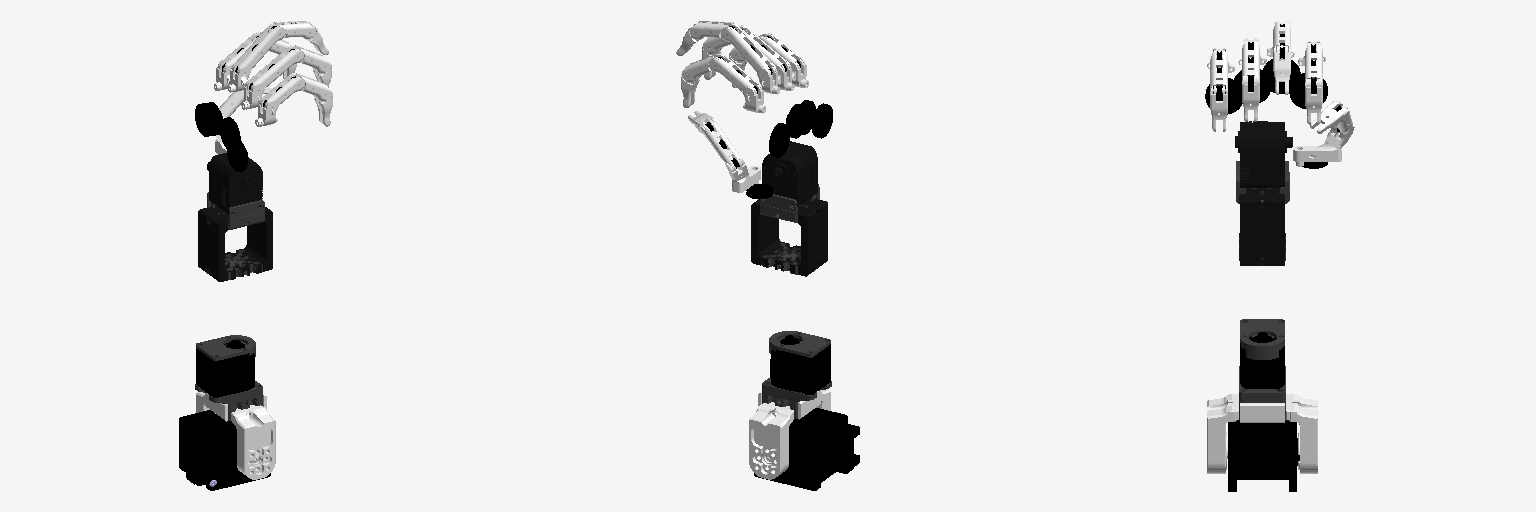
--- Render facts (derived) ---
3 views of the same robot in one strip: view 1: azimuth 30°, elevation 25°; view 2: azimuth 150°, elevation 25°; view 3: azimuth 270°, elevation 25° (orthographic).
Robot: hand_v3_model — 29 links, 28 joints (22 revolute, 6 continuous); root link base_link; default pose: all joints at 0.
Links seen in each view (by area): view 1: arm_link1, arm_link2, base_link, middle_link1, ring_link1, little_link1, little_pulley_link, middle_pulley_link, middle_link2; view 2: arm_link1, arm_link2, base_link, middle_link1, index_link1, thumb_link1, thumb_link0, middle_link2, middle_pulley_link, little_pulley_link, index_pulley_link; view 3: arm_link1, arm_link2, base_link, thumb_link0, middle_link3, ring_link2, index_link2, little_link2, index_link3, ring_link3, little_link3, thumb_link2 (+2 smaller).
Link boxes in pixels (box(x1,y1,x2,y2)): arm_link1: box(195, 335, 275, 479); arm_link2: box(198, 153, 272, 281); base_link: box(179, 410, 270, 490); middle_link1: box(233, 22, 285, 73); ring_link1: box(247, 45, 303, 91); little_link1: box(260, 73, 304, 108); little_pulley_link: box(227, 138, 247, 171); middle_pulley_link: box(202, 102, 222, 135); middle_link2: box(268, 21, 315, 40); arm_link1: box(749, 331, 831, 479); arm_link2: box(751, 141, 827, 276); base_link: box(754, 408, 859, 490); middle_link1: box(721, 22, 774, 75); index_link1: box(709, 53, 760, 94); thumb_link1: box(699, 117, 742, 170); thumb_link0: box(725, 155, 760, 192); middle_link2: box(690, 21, 738, 39); middle_pulley_link: box(786, 104, 807, 138); little_pulley_link: box(812, 103, 832, 138); index_pulley_link: box(769, 123, 789, 157); arm_link1: box(1207, 319, 1317, 473); arm_link2: box(1235, 121, 1292, 265); base_link: box(1228, 420, 1299, 491); thumb_link0: box(1293, 126, 1354, 166); middle_link3: box(1273, 46, 1290, 94); ring_link2: box(1242, 40, 1259, 84); index_link2: box(1305, 43, 1322, 86); little_link2: box(1210, 50, 1227, 94); index_link3: box(1305, 77, 1322, 124); ring_link3: box(1242, 75, 1259, 121); little_link3: box(1210, 85, 1227, 131); thumb_link2: box(1310, 101, 1346, 133).
Size in the robot's own frame: 0.114 by 0.0851 by 0.3066 metres.
Meshes: 29 distinct files referenced, 28 mesh visuals loaded (28 Collada DAE); not drawn: 1 (reference not matched to a file when rendering).

The robot description file, URDF, robot "hand_v3_model":
<?xml version='1.0' encoding='UTF-8'?>
<robot name="hand_v3_model">
  <link name="base_link">
    <inertial>
      <origin xyz="-0.0109878002350335 -0.000467352545920593 0.0159581444820132" rpy="0.0 -0.0 0.0"/>
      <mass value="0.154434473579629"/>
      <inertia ixx="3.43058191646254e-05" ixy="2.21370757914087e-06" ixz="-1.33269609834339e-08" iyy="4.08483596238249e-05" iyz="-1.97753608771289e-08" izz="4.86767167868751e-05"/>
    </inertial>
    <visual>
      <geometry>
        <mesh filename="package://hand_v3_model/meshes/base_link.dae"/>
      </geometry>
      <material name=""/>
      <origin xyz="0.0 0.0 0.0" rpy="0.0 -0.0 0.0"/>
    </visual>
    <collision>
      <geometry>
        <mesh filename="package://hand_v3_model/meshes/base_link.dae"/>
      </geometry>
      <origin xyz="0.0 0.0 0.0" rpy="0.0 -0.0 0.0"/>
    </collision>
  </link>
  <link name="arm_link1">
    <inertial>
      <origin xyz="-0.00316960988198456 -0.000189219150271503 0.0177246887158583" rpy="0.0 -0.0 0.0"/>
      <mass value="0.056842607909979"/>
      <inertia ixx="5.82383938758488e-06" ixy="-3.25545745711165e-09" ixz="-4.53046833466998e-08" iyy="7.42855462055827e-06" iyz="-1.14764880883881e-08" izz="5.89719507542553e-06"/>
    </inertial>
    <visual>
      <geometry>
        <mesh filename="package://hand_v3_model/meshes/arm_link1.dae"/>
      </geometry>
      <material name=""/>
      <origin xyz="-4.57197212379339e-15 0.0 -0.016" rpy="0.0 -0.0 0.0"/>
    </visual>
    <collision>
      <geometry>
        <mesh filename="package://hand_v3_model/meshes/arm_link1.dae"/>
      </geometry>
      <origin xyz="-4.57197212379339e-15 0.0 -0.016" rpy="0.0 -0.0 0.0"/>
    </collision>
  </link>
  <link name="arm_link2">
    <inertial>
      <origin xyz="-0.0133833733173375 6.72883877540537e-05 -0.0567097979838634" rpy="0.0 -0.0 0.0"/>
      <mass value="0.0703791991686179"/>
      <inertia ixx="8.94656964377469e-06" ixy="-4.11425031885578e-10" ixz="-9.07199817211459e-09" iyy="7.37037278675224e-06" iyz="-6.45988319886012e-09" izz="5.43553211836563e-06"/>
    </inertial>
    <visual>
      <geometry>
        <mesh filename="package://hand_v3_model/meshes/arm_link2.dae"/>
      </geometry>
      <material name=""/>
      <origin xyz="-2.75991859338823e-15 2.44505428156816e-15 -0.0899999999999994" rpy="0.0 -0.0 0.0"/>
    </visual>
    <collision>
      <geometry>
        <mesh filename="package://hand_v3_model/meshes/arm_link2.dae"/>
      </geometry>
      <origin xyz="-2.75991859338823e-15 2.44505428156816e-15 -0.0899999999999994" rpy="0.0 -0.0 0.0"/>
    </collision>
  </link>
  <link name="hand_link">
    <inertial>
      <origin xyz="0.00242336896444873 -0.000435009434759933 -0.0994024105782972" rpy="0.0 -0.0 0.0"/>
      <mass value="0.0863017748377602"/>
      <inertia ixx="1.21884417232236e-05" ixy="-6.20382063994788e-08" ixz="-4.2836529888476e-08" iyy="5.78589456737548e-06" iyz="3.45943329730611e-07" izz="1.15389270657223e-05"/>
    </inertial>
    <visual>
      <geometry>
        <mesh filename="package://hand_v3_model/meshes/hand_link.dae"/>
      </geometry>
      <material name=""/>
      <origin xyz="-2.2275862347845e-15 0.0 -0.158999999999999" rpy="0.0 -0.0 0.0"/>
    </visual>
    <collision>
      <geometry>
        <mesh filename="package://hand_v3_model/meshes/hand_link.dae"/>
      </geometry>
      <origin xyz="-2.2275862347845e-15 0.0 -0.158999999999999" rpy="0.0 -0.0 0.0"/>
    </collision>
  </link>
  <link name="thumb_pulley_link">
    <inertial>
      <origin xyz="0.00510781773182535 -0.0292761330633162 0.201840813118144" rpy="0.0 -0.0 0.0"/>
      <mass value="0.000573068394145991"/>
      <inertia ixx="1.00267310356119e-08" ixy="6.74352672289079e-12" ixz="-1.70215308289679e-13" iyy="1.05505867223988e-08" iyz="1.32278768111146e-11" izz="1.953683566512e-08"/>
    </inertial>
    <visual>
      <geometry>
        <mesh filename="package://hand_v3_model/meshes/thumb_pulley_link.dae"/>
      </geometry>
      <material name=""/>
      <origin xyz="0.00510473038957319 -0.0290362596907795 0.200500005856289" rpy="3.14159265358979 -0.0 3.14159265358979"/>
    </visual>
    <collision>
      <geometry>
        <mesh filename="package://hand_v3_model/meshes/thumb_pulley_link.dae"/>
      </geometry>
      <origin xyz="0.00510473038957319 -0.0290362596907795 0.200500005856289" rpy="3.14159265358979 -0.0 3.14159265358979"/>
    </collision>
  </link>
  <link name="index_pulley_link">
    <inertial>
      <origin xyz="0.0104400800960247 0.0261196456825002 0.23919490665274" rpy="0.0 -0.0 0.0"/>
      <mass value="0.00101512886583036"/>
      <inertia ixx="5.80350843229944e-08" ixy="8.51920492995173e-12" ixz="1.51610468430295e-11" iyy="2.96344798454047e-08" iyz="-4.55614663040133e-10" izz="3.0189289854793e-08"/>
    </inertial>
    <visual>
      <geometry>
        <mesh filename="package://hand_v3_model/meshes/index_pulley_link.dae"/>
      </geometry>
      <material name=""/>
      <origin xyz="0.00909526961042528 0.0262348940717162 0.239400006335382" rpy="3.14159265358979 -6.29357130235854e-15 0.0"/>
    </visual>
    <collision>
      <geometry>
        <mesh filename="package://hand_v3_model/meshes/index_pulley_link.dae"/>
      </geometry>
      <origin xyz="0.00909526961042528 0.0262348940717162 0.239400006335382" rpy="3.14159265358979 -6.29357130235854e-15 0.0"/>
    </collision>
  </link>
  <link name="middle_pulley_link">
    <inertial>
      <origin xyz="-0.0106851741089206 0.0105779808218025 -0.247564657658571" rpy="0.0 -0.0 0.0"/>
      <mass value="0.00126450613447782"/>
      <inertia ixx="6.153212699496e-08" ixy="8.63522073123539e-11" ixz="1.53675122365542e-10" iyy="3.38642320708007e-08" iyz="-4.50882529920666e-10" izz="3.4413279678244e-08"/>
    </inertial>
    <visual>
      <geometry>
        <mesh filename="package://hand_v3_model/meshes/middle_pulley_link.dae"/>
      </geometry>
      <material name=""/>
      <origin xyz="-0.0090952696104251 0.0106705007103529 -0.247400006335382" rpy="0.0 6.10622663543836e-15 3.14159265358979"/>
    </visual>
    <collision>
      <geometry>
        <mesh filename="package://hand_v3_model/meshes/middle_pulley_link.dae"/>
      </geometry>
      <origin xyz="-0.0090952696104251 0.0106705007103529 -0.247400006335382" rpy="0.0 6.10622663543836e-15 3.14159265358979"/>
    </collision>
  </link>
  <link name="ring_pulley_link">
    <inertial>
      <origin xyz="-0.00775045912482592 -0.00621524656502203 -0.242605099682641" rpy="0.0 -0.0 0.0"/>
      <mass value="0.00101512886583036"/>
      <inertia ixx="5.80350843229944e-08" ixy="8.51920493000025e-12" ixz="1.51610468430321e-11" iyy="2.96344798454047e-08" iyz="-4.55614663040125e-10" izz="3.01892898547929e-08"/>
    </inertial>
    <visual>
      <geometry>
        <mesh filename="package://hand_v3_model/meshes/ring_pulley_link.dae"/>
      </geometry>
      <material name=""/>
      <origin xyz="-0.00909526961042529 -0.00609999817580607 -0.242399999999999" rpy="0.0 6.1914943152288e-15 3.14159265358979"/>
    </visual>
    <collision>
      <geometry>
        <mesh filename="package://hand_v3_model/meshes/ring_pulley_link.dae"/>
      </geometry>
      <origin xyz="-0.00909526961042529 -0.00609999817580607 -0.242399999999999" rpy="0.0 6.1914943152288e-15 3.14159265358979"/>
    </collision>
  </link>
  <link name="little_pulley_link">
    <inertial>
      <origin xyz="-0.0106851741089209 -0.0217569004806293 -0.234564651323188" rpy="0.0 -0.0 0.0"/>
      <mass value="0.00126450613447782"/>
      <inertia ixx="6.153212699496e-08" ixy="8.63522073123654e-11" ixz="1.53675122365515e-10" iyy="3.38642320708007e-08" iyz="-4.50882529920699e-10" izz="3.4413279678244e-08"/>
    </inertial>
    <visual>
      <geometry>
        <mesh filename="package://hand_v3_model/meshes/little_pulley_link.dae"/>
      </geometry>
      <material name=""/>
      <origin xyz="-0.00909526961042538 -0.0216643805920785 -0.234399999999999" rpy="0.0 6.79941902283724e-15 3.14159265358979"/>
    </visual>
    <collision>
      <geometry>
        <mesh filename="package://hand_v3_model/meshes/little_pulley_link.dae"/>
      </geometry>
      <origin xyz="-0.00909526961042538 -0.0216643805920785 -0.234399999999999" rpy="0.0 6.79941902283724e-15 3.14159265358979"/>
    </collision>
  </link>
  <link name="adduction_pulley_link">
    <inertial>
      <origin xyz="0.000198118046709829 -0.00427523428696472 -0.198703188441648" rpy="0.0 -0.0 0.0"/>
      <mass value="0.001757686295804"/>
      <inertia ixx="3.86361592032778e-08" ixy="-1.22785333194018e-11" ixz="-4.8784810322831e-10" iyy="7.13845589903268e-08" iyz="-3.92507882041781e-12" izz="3.72660104742244e-08"/>
    </inertial>
    <visual>
      <geometry>
        <mesh filename="package://hand_v3_model/meshes/adduction_pulley_link.dae"/>
      </geometry>
      <material name=""/>
      <origin xyz="-0.00010473038957307 -0.0032852567398191 -0.1988" rpy="0.0 -0.0 0.0"/>
    </visual>
    <collision>
      <geometry>
        <mesh filename="package://hand_v3_model/meshes/adduction_pulley_link.dae"/>
      </geometry>
      <origin xyz="-0.00010473038957307 -0.0032852567398191 -0.1988" rpy="0.0 -0.0 0.0"/>
    </collision>
  </link>
  <link name="thumb_link0">
    <inertial>
      <origin xyz="-0.0131984273671558 -0.00725706379203021 -0.192361834200038" rpy="0.0 -0.0 0.0"/>
      <mass value="0.00222751592226498"/>
      <inertia ixx="2.38889246293414e-07" ixy="1.99935318158079e-09" ixz="-6.52098353698374e-10" iyy="9.11947268793594e-08" iyz="6.66199427255504e-08" izz="1.73153324814357e-07"/>
    </inertial>
    <visual>
      <geometry>
        <mesh filename="package://hand_v3_model/meshes/thumb_link0.dae"/>
      </geometry>
      <material name=""/>
      <origin xyz="-0.0131047303895731 -0.0212852595376632 -0.2026000033042" rpy="0.0 -0.0 0.0"/>
    </visual>
    <collision>
      <geometry>
        <mesh filename="package://hand_v3_model/meshes/thumb_link0.dae"/>
      </geometry>
      <origin xyz="-0.0131047303895731 -0.0212852595376632 -0.2026000033042" rpy="0.0 -0.0 0.0"/>
    </collision>
  </link>
  <link name="thumb_link1">
    <inertial>
      <origin xyz="-0.216467877533102 0.0563047891488146 0.0523321482745116" rpy="0.0 -0.0 0.0"/>
      <mass value="0.00165203071259998"/>
      <inertia ixx="1.2966552481911e-07" ixy="-1.88227968165314e-09" ixz="-9.08488691982749e-09" iyy="1.00745533324547e-07" iyz="4.36364445635354e-08" izz="5.37360997676869e-08"/>
    </inertial>
    <visual>
      <geometry>
        <mesh filename="package://hand_v3_model/meshes/thumb_link1.dae"/>
      </geometry>
      <material name=""/>
      <origin xyz="-0.216202777467447 0.0502511553519543 0.0638825785807015" rpy="2.23842558172273 1.04895643175948 1.72741068697177"/>
    </visual>
    <collision>
      <geometry>
        <mesh filename="package://hand_v3_model/meshes/thumb_link1.dae"/>
      </geometry>
      <origin xyz="-0.216202777467447 0.0502511553519543 0.0638825785807015" rpy="2.23842558172273 1.04895643175948 1.72741068697177"/>
    </collision>
  </link>
  <link name="thumb_link2">
    <inertial>
      <origin xyz="-0.243598093319774 0.0536736725013028 0.056378359287128" rpy="0.0 -0.0 0.0"/>
      <mass value="0.00106407346529886"/>
      <inertia ixx="5.0740896902131e-08" ixy="-1.85601140388179e-09" ixz="-5.85721170309465e-09" iyy="3.91353630345101e-08" iyz="1.59700478183056e-08" izz="2.57390361476367e-08"/>
    </inertial>
    <visual>
      <geometry>
        <mesh filename="package://hand_v3_model/meshes/thumb_link2.dae"/>
      </geometry>
      <material name=""/>
      <origin xyz="-0.244202777467447 0.0502511553519542 0.0638825785807018" rpy="2.23842558172273 1.04895643175948 1.72741068697177"/>
    </visual>
    <collision>
      <geometry>
        <mesh filename="package://hand_v3_model/meshes/thumb_link2.dae"/>
      </geometry>
      <origin xyz="-0.244202777467447 0.0502511553519542 0.0638825785807018" rpy="2.23842558172273 1.04895643175948 1.72741068697177"/>
    </collision>
  </link>
  <link name="index_link0">
    <inertial>
      <origin xyz="-0.259546590990719 -0.0296537571649588 0.00456476569574218" rpy="0.0 -0.0 0.0"/>
      <mass value="0.000862118530230642"/>
      <inertia ixx="2.74838732877089e-08" ixy="4.60249360897436e-11" ixz="1.64629832322435e-09" iyy="2.48157644555655e-08" iyz="-2.9337068422507e-10" izz="1.83260236280512e-08"/>
    </inertial>
    <visual>
      <geometry>
        <mesh filename="package://hand_v3_model/meshes/index_link0.dae"/>
      </geometry>
      <material name=""/>
      <origin xyz="-0.259599999480807 -0.0292852457947261 0.00900475468859969" rpy="3.14159260861283 1.5707962257303 3.14159260861282"/>
    </visual>
    <collision>
      <geometry>
        <mesh filename="package://hand_v3_model/meshes/index_link0.dae"/>
      </geometry>
      <origin xyz="-0.259599999480807 -0.0292852457947261 0.00900475468859969" rpy="3.14159260861283 1.5707962257303 3.14159260861282"/>
    </collision>
  </link>
  <link name="index_link1">
    <inertial>
      <origin xyz="-0.269796020562025 -0.0291853153023216 -0.0025096521649053" rpy="0.0 -0.0 0.0"/>
      <mass value="0.00165203434128293"/>
      <inertia ixx="1.32129915581454e-07" ixy="-6.62321332623645e-13" ixz="-8.8866658408437e-10" iyy="1.25083225521202e-07" iyz="-1.81097385758053e-12" izz="2.69357717030327e-08"/>
    </inertial>
    <visual>
      <geometry>
        <mesh filename="package://hand_v3_model/meshes/index_link1.dae"/>
      </geometry>
      <material name=""/>
      <origin xyz="-0.270664999480807 -0.029185245794724 0.0105047546885993" rpy="3.141592613397 1.5707962257303 3.14159261339698"/>
    </visual>
    <collision>
      <geometry>
        <mesh filename="package://hand_v3_model/meshes/index_link1.dae"/>
      </geometry>
      <origin xyz="-0.270664999480807 -0.029185245794724 0.0105047546885993" rpy="3.141592613397 1.5707962257303 3.14159261339698"/>
    </collision>
  </link>
  <link name="index_link2">
    <inertial>
      <origin xyz="-0.297807626849069 -0.0291853490981006 -1.407448517644e-05" rpy="0.0 -0.0 0.0"/>
      <mass value="0.0013886718188057"/>
      <inertia ixx="8.31791309546701e-08" ixy="-7.83803285423808e-13" ixz="-8.15452233871523e-10" iyy="7.77088477685013e-08" iyz="-1.73077033037949e-12" izz="2.23707352283293e-08"/>
    </inertial>
    <visual>
      <geometry>
        <mesh filename="package://hand_v3_model/meshes/index_link2.dae"/>
      </geometry>
      <material name=""/>
      <origin xyz="-0.298664999480807 -0.0291852457947244 0.0105047546885992" rpy="3.14159261104938 1.5707962257303 3.14159261104937"/>
    </visual>
    <collision>
      <geometry>
        <mesh filename="package://hand_v3_model/meshes/index_link2.dae"/>
      </geometry>
      <origin xyz="-0.298664999480807 -0.0291852457947244 0.0105047546885992" rpy="3.14159261104938 1.5707962257303 3.14159261104937"/>
    </collision>
  </link>
  <link name="index_link3">
    <inertial>
      <origin xyz="-0.320224657178964 -0.0291852653919107 0.00236115870477204" rpy="0.0 -0.0 0.0"/>
      <mass value="0.00106407623116354"/>
      <inertia ixx="5.23142399203227e-08" ixy="-1.5111002281285e-13" ixz="-3.63902192430524e-09" iyy="4.8789779132005e-08" iyz="-2.53656351086963e-13" izz="1.45110052053006e-08"/>
    </inertial>
    <visual>
      <geometry>
        <mesh filename="package://hand_v3_model/meshes/index_link3.dae"/>
      </geometry>
      <material name=""/>
      <origin xyz="-0.321664999480807 -0.0291852457947243 0.0105047546885992" rpy="3.1415926110509 1.5707962257303 3.14159261105089"/>
    </visual>
    <collision>
      <geometry>
        <mesh filename="package://hand_v3_model/meshes/index_link3.dae"/>
      </geometry>
      <origin xyz="-0.321664999480807 -0.0291852457947243 0.0105047546885992" rpy="3.1415926110509 1.5707962257303 3.14159261105089"/>
    </collision>
  </link>
  <link name="middle_link0">
    <inertial>
      <origin xyz="-0.265546614219272 -0.0114537399083578 0.00457788636549101" rpy="0.0 -0.0 0.0"/>
      <mass value="0.000862150655926044"/>
      <inertia ixx="2.74370185779517e-08" ixy="4.6126302112349e-11" ixz="1.6357067860222e-09" iyy="2.47678482511178e-08" iyz="-3.6292247971454e-10" izz="1.83271437549192e-08"/>
    </inertial>
    <visual>
      <geometry>
        <mesh filename="package://hand_v3_model/meshes/middle_link0.dae"/>
      </geometry>
      <material name=""/>
      <origin xyz="-0.265599999480807 -0.0111852457947265 0.00900475468859955" rpy="3.14159265051626 1.5707962257303 3.14159265051625"/>
    </visual>
    <collision>
      <geometry>
        <mesh filename="package://hand_v3_model/meshes/middle_link0.dae"/>
      </geometry>
      <origin xyz="-0.265599999480807 -0.0111852457947265 0.00900475468859955" rpy="3.14159265051626 1.5707962257303 3.14159265051625"/>
    </collision>
  </link>
  <link name="middle_link1">
    <inertial>
      <origin xyz="-0.275766227181716 -0.0111852850134636 -0.00545183213146322" rpy="0.0 -0.0 0.0"/>
      <mass value="0.00195707994885375"/>
      <inertia ixx="2.13983170855386e-07" ixy="-4.8039826247919e-13" ixz="-1.32901123020803e-09" iyy="2.04977420227202e-07" iyz="-1.72954846904637e-12" izz="3.21864462364343e-08"/>
    </inertial>
    <visual>
      <geometry>
        <mesh filename="package://hand_v3_model/meshes/middle_link1.dae"/>
      </geometry>
      <material name=""/>
      <origin xyz="-0.276664999480807 -0.0111852457947265 0.0105047546885996" rpy="3.14159265049913 1.5707962257303 3.14159265049912"/>
    </visual>
    <collision>
      <geometry>
        <mesh filename="package://hand_v3_model/meshes/middle_link1.dae"/>
      </geometry>
      <origin xyz="-0.276664999480807 -0.0111852457947265 0.0105047546885996" rpy="3.14159265049913 1.5707962257303 3.14159265049912"/>
    </collision>
  </link>
  <link name="middle_link2">
    <inertial>
      <origin xyz="-0.309807626849069 -0.0111853490981029 -1.40744851756507e-05" rpy="0.0 -0.0 0.0"/>
      <mass value="0.00138867181880571"/>
      <inertia ixx="8.31791309546707e-08" ixy="-7.83803285444521e-13" ixz="-8.15452233871562e-10" iyy="7.77088477685021e-08" iyz="-1.73077033067875e-12" izz="2.23707352283297e-08"/>
    </inertial>
    <visual>
      <geometry>
        <mesh filename="package://hand_v3_model/meshes/middle_link2.dae"/>
      </geometry>
      <material name=""/>
      <origin xyz="-0.310664999480807 -0.0111852457947267 0.0105047546885998" rpy="3.14159265064449 1.5707962257303 3.14159265064448"/>
    </visual>
    <collision>
      <geometry>
        <mesh filename="package://hand_v3_model/meshes/middle_link2.dae"/>
      </geometry>
      <origin xyz="-0.310664999480807 -0.0111852457947267 0.0105047546885998" rpy="3.14159265064449 1.5707962257303 3.14159265064448"/>
    </collision>
  </link>
  <link name="middle_link3">
    <inertial>
      <origin xyz="-0.332224657178963 -0.0111852653919131 0.00236115870477253" rpy="0.0 -0.0 0.0"/>
      <mass value="0.00106407623116355"/>
      <inertia ixx="5.23142399203238e-08" ixy="-1.5111002278672e-13" ixz="-3.63902192430555e-09" iyy="4.87897791320062e-08" iyz="-2.53656351093615e-13" izz="1.45110052053006e-08"/>
    </inertial>
    <visual>
      <geometry>
        <mesh filename="package://hand_v3_model/meshes/middle_link3.dae"/>
      </geometry>
      <material name=""/>
      <origin xyz="-0.333664999480807 -0.0111852457947267 0.0105047546885998" rpy="3.14159265192535 1.5707962257303 3.14159265192534"/>
    </visual>
    <collision>
      <geometry>
        <mesh filename="package://hand_v3_model/meshes/middle_link3.dae"/>
      </geometry>
      <origin xyz="-0.333664999480807 -0.0111852457947267 0.0105047546885998" rpy="3.14159265192535 1.5707962257303 3.14159265192534"/>
    </collision>
  </link>
  <link name="ring_link0">
    <inertial>
      <origin xyz="-0.260546593579049 0.00718323862641574 0.00457778188191441" rpy="0.0 -0.0 0.0"/>
      <mass value="0.000862141381321462"/>
      <inertia ixx="2.74365725109555e-08" ixy="-4.61046549448374e-11" ixz="1.63564836675755e-09" iyy="2.47668560611856e-08" iyz="3.63501748163601e-10" izz="1.83274320135936e-08"/>
    </inertial>
    <visual>
      <geometry>
        <mesh filename="package://hand_v3_model/meshes/ring_link0.dae"/>
      </geometry>
      <material name=""/>
      <origin xyz="-0.260599999480807 0.00681475420527238 0.00900475468859948" rpy="3.14159265176577 1.5707962257303 3.14159265176576"/>
    </visual>
    <collision>
      <geometry>
        <mesh filename="package://hand_v3_model/meshes/ring_link0.dae"/>
      </geometry>
      <origin xyz="-0.260599999480807 0.00681475420527238 0.00900475468859948" rpy="3.14159265176577 1.5707962257303 3.14159265176576"/>
    </collision>
  </link>
  <link name="ring_link1">
    <inertial>
      <origin xyz="-0.270766227181715 0.00671471498653776 -0.00545183213146304" rpy="0.0 -0.0 0.0"/>
      <mass value="0.00195707994885375"/>
      <inertia ixx="2.13983170855384e-07" ixy="-4.80398262558925e-13" ixz="-1.32901123020875e-09" iyy="2.04977420227199e-07" iyz="-1.72954846953604e-12" izz="3.21864462364342e-08"/>
    </inertial>
    <visual>
      <geometry>
        <mesh filename="package://hand_v3_model/meshes/ring_link1.dae"/>
      </geometry>
      <material name=""/>
      <origin xyz="-0.271664999480807 0.00671475420527486 0.0105047546885997" rpy="3.14159265176859 1.5707962257303 3.14159265176858"/>
    </visual>
    <collision>
      <geometry>
        <mesh filename="package://hand_v3_model/meshes/ring_link1.dae"/>
      </geometry>
      <origin xyz="-0.271664999480807 0.00671475420527486 0.0105047546885997" rpy="3.14159265176859 1.5707962257303 3.14159265176858"/>
    </collision>
  </link>
  <link name="ring_link2">
    <inertial>
      <origin xyz="-0.304807626849069 0.00671465090189834 -1.40744851763672e-05" rpy="0.0 -0.0 0.0"/>
      <mass value="0.00138867181880575"/>
      <inertia ixx="8.31791309546752e-08" ixy="-7.83803284926007e-13" ixz="-8.15452233869594e-10" iyy="7.77088477685069e-08" iyz="-1.73077032933939e-12" izz="2.23707352283308e-08"/>
    </inertial>
    <visual>
      <geometry>
        <mesh filename="package://hand_v3_model/meshes/ring_link2.dae"/>
      </geometry>
      <material name=""/>
      <origin xyz="-0.305664999480807 0.00671475420527445 0.0105047546885995" rpy="3.14159265168511 1.5707962257303 3.1415926516851"/>
    </visual>
    <collision>
      <geometry>
        <mesh filename="package://hand_v3_model/meshes/ring_link2.dae"/>
      </geometry>
      <origin xyz="-0.305664999480807 0.00671475420527445 0.0105047546885995" rpy="3.14159265168511 1.5707962257303 3.1415926516851"/>
    </collision>
  </link>
  <link name="ring_link3">
    <inertial>
      <origin xyz="-0.327224657178963 0.00671473460808826 0.00236115870477242" rpy="0.0 -0.0 0.0"/>
      <mass value="0.00106407623116355"/>
      <inertia ixx="5.23142399203226e-08" ixy="-1.51110022851543e-13" ixz="-3.63902192430535e-09" iyy="4.87897791320049e-08" iyz="-2.53656350566262e-13" izz="1.45110052053007e-08"/>
    </inertial>
    <visual>
      <geometry>
        <mesh filename="package://hand_v3_model/meshes/ring_link3.dae"/>
      </geometry>
      <material name=""/>
      <origin xyz="-0.328664999480807 0.00671475420527456 0.0105047546885996" rpy="3.1415926525175 1.57079622355662 3.14159265251749"/>
    </visual>
    <collision>
      <geometry>
        <mesh filename="package://hand_v3_model/meshes/ring_link3.dae"/>
      </geometry>
      <origin xyz="-0.328664999480807 0.00671475420527456 0.0105047546885996" rpy="3.1415926525175 1.57079622355662 3.14159265251749"/>
    </collision>
  </link>
  <link name="little_link0">
    <inertial>
      <origin xyz="-0.255546571152166 0.025183364375151 0.00456487884781971" rpy="0.0 -0.0 0.0"/>
      <mass value="0.000862121012813722"/>
      <inertia ixx="2.74833063697176e-08" ixy="-4.60015292915544e-11" ixz="1.64625439575694e-09" iyy="2.48141488184623e-08" iyz="2.92884480550074e-10" izz="1.83268341935806e-08"/>
    </inertial>
    <visual>
      <geometry>
        <mesh filename="package://hand_v3_model/meshes/little_link0.dae"/>
      </geometry>
      <material name=""/>
      <origin xyz="-0.255599999480807 0.0248147542052726 0.0090047546885994" rpy="3.14159264940426 1.5707962257303 3.14159264940425"/>
    </visual>
    <collision>
      <geometry>
        <mesh filename="package://hand_v3_model/meshes/little_link0.dae"/>
      </geometry>
      <origin xyz="-0.255599999480807 0.0248147542052726 0.0090047546885994" rpy="3.14159264940426 1.5707962257303 3.14159264940425"/>
    </collision>
  </link>
  <link name="little_link1">
    <inertial>
      <origin xyz="-0.265807626849069 0.0247146509018984 -1.40744851762839e-05" rpy="0.0 -0.0 0.0"/>
      <mass value="0.00138867181880574"/>
      <inertia ixx="8.31791309546752e-08" ixy="-7.83803284975712e-13" ixz="-8.15452233869618e-10" iyy="7.77088477685069e-08" iyz="-1.73077032932951e-12" izz="2.23707352283305e-08"/>
    </inertial>
    <visual>
      <geometry>
        <mesh filename="package://hand_v3_model/meshes/little_link1.dae"/>
      </geometry>
      <material name=""/>
      <origin xyz="-0.266664999480806 0.0247147542052746 0.0105047546885995" rpy="3.14159264991893 1.5707962257303 3.14159264991892"/>
    </visual>
    <collision>
      <geometry>
        <mesh filename="package://hand_v3_model/meshes/little_link1.dae"/>
      </geometry>
      <origin xyz="-0.266664999480806 0.0247147542052746 0.0105047546885995" rpy="3.14159264991893 1.5707962257303 3.14159264991892"/>
    </collision>
  </link>
  <link name="little_link2">
    <inertial>
      <origin xyz="-0.288807626849069 0.0247146509018983 -1.40744851763342e-05" rpy="0.0 -0.0 0.0"/>
      <mass value="0.00138867181880573"/>
      <inertia ixx="8.31791309546742e-08" ixy="-7.8380328498574e-13" ixz="-8.15452233869933e-10" iyy="7.77088477685058e-08" iyz="-1.73077032950147e-12" izz="2.23707352283303e-08"/>
    </inertial>
    <visual>
      <geometry>
        <mesh filename="package://hand_v3_model/meshes/little_link2.dae"/>
      </geometry>
      <material name=""/>
      <origin xyz="-0.289664999480807 0.0247147542052744 0.0105047546885995" rpy="3.14159264961856 1.5707962257303 3.14159264961855"/>
    </visual>
    <collision>
      <geometry>
        <mesh filename="package://hand_v3_model/meshes/little_link2.dae"/>
      </geometry>
      <origin xyz="-0.289664999480807 0.0247147542052744 0.0105047546885995" rpy="3.14159264961856 1.5707962257303 3.14159264961855"/>
    </collision>
  </link>
  <link name="little_link3">
    <inertial>
      <origin xyz="-0.311224246785034 0.0247148007074488 0.00235917937135621" rpy="0.0 -0.0 0.0"/>
      <mass value="0.00106425139723531"/>
      <inertia ixx="5.23369094826413e-08" ixy="-3.35288484214136e-13" ixz="-3.64395617546812e-09" iyy="4.88130690506486e-08" iyz="5.94614708923036e-13" izz="1.45125530907287e-08"/>
    </inertial>
    <visual>
      <geometry>
        <mesh filename="package://hand_v3_model/meshes/little_link3.dae"/>
      </geometry>
      <material name=""/>
      <origin xyz="-0.312664999480807 0.0247147542052746 0.0105047546885995" rpy="3.14159264962668 1.5707962257303 3.14159264962667"/>
    </visual>
    <collision>
      <geometry>
        <mesh filename="package://hand_v3_model/meshes/little_link3.dae"/>
      </geometry>
      <origin xyz="-0.312664999480807 0.0247147542052746 0.0105047546885995" rpy="3.14159264962668 1.5707962257303 3.14159264962667"/>
    </collision>
  </link>
  <joint name="arm_joint1" type="revolute">
    <limit effort="0.0" velocity="4.553" lower="-0.5236" upper="1.5708"/>
    <parent link="base_link"/>
    <child link="arm_link1"/>
    <axis xyz="0. 1. 0."/>
    <origin xyz="0.0 0.0 0.016" rpy="0.0 -0.0 0.0"/>
  </joint>
  <joint name="arm_joint2" type="revolute">
    <limit effort="0.0" velocity="6.545" lower="-2.3562" upper="2.3562"/>
    <parent link="arm_link1"/>
    <child link="arm_link2"/>
    <axis xyz="0. 0. 1."/>
    <origin xyz="0.0 0.0 0.074" rpy="0.0 -0.0 0.0"/>
  </joint>
  <joint name="hand_joint" type="revolute">
    <limit effort="0.0" velocity="6.545" lower="-1.5708" upper="1.7453"/>
    <parent link="arm_link2"/>
    <child link="hand_link"/>
    <axis xyz=" 0. 1.  0."/>
    <origin xyz="0.0 0.0 0.069" rpy="0.0 -0.0 0.0"/>
  </joint>
  <joint name="thumb_pulley_joint" type="continuous">
    <limit effort="0.0" velocity="10.0"/>
    <parent link="hand_link"/>
    <child link="thumb_pulley_link"/>
    <axis xyz=" 0.  0. -1."/>
    <origin xyz="0.0051047 0.029036 0.0415" rpy="-3.1415853071795867 -0.0 -3.1415853071795867"/>
  </joint>
  <joint name="index_pulley_joint" type="continuous">
    <limit effort="0.0" velocity="10.0"/>
    <parent link="hand_link"/>
    <child link="index_pulley_link"/>
    <axis xyz="1. 0. 0."/>
    <origin xyz="-0.0090953 0.026235 0.0804" rpy="-3.1415853071795867 -0.0 0.0"/>
  </joint>
  <joint name="middle_pulley_joint" type="continuous">
    <limit effort="0.0" velocity="10.0"/>
    <parent link="hand_link"/>
    <child link="middle_pulley_link"/>
    <axis xyz="-1.  0.  0."/>
    <origin xyz="-0.0090953 0.010671 0.0884" rpy="0.0 -0.0 -3.1415853071795867"/>
  </joint>
  <joint name="ring_pulley_joint" type="continuous">
    <limit effort="0.0" velocity="10.0"/>
    <parent link="hand_link"/>
    <child link="ring_pulley_link"/>
    <axis xyz="1. 0. 0."/>
    <origin xyz="-0.0090953 -0.0061 0.0834" rpy="0.0 -0.0 -3.1415853071795867"/>
  </joint>
  <joint name="little_pulley_joint" type="continuous">
    <limit effort="0.0" velocity="10.0"/>
    <parent link="hand_link"/>
    <child link="little_pulley_link"/>
    <axis xyz="-1.  0.  0."/>
    <origin xyz="-0.0090953 -0.021664 0.0754" rpy="0.0 -0.0 -3.1415853071795867"/>
  </joint>
  <joint name="adduction_pulley_joint" type="continuous">
    <limit effort="0.0" velocity="6.545"/>
    <parent link="hand_link"/>
    <child link="adduction_pulley_link"/>
    <axis xyz=" 0. -1.  0."/>
    <origin xyz="0.00010473 0.0032853 0.0398" rpy="0.0 -0.0 0.0"/>
  </joint>
  <joint name="thumb_joint0" type="revolute">
    <limit effort="0.0" velocity="10.0" lower="0.0" upper="2.0944"/>
    <parent link="hand_link"/>
    <child link="thumb_link0"/>
    <axis xyz=" 0.  0. -1."/>
    <origin xyz="0.013105 0.021285 0.0436" rpy="0.0 -0.0 0.0"/>
  </joint>
  <joint name="thumb_joint1" type="revolute">
    <limit effort="0.0" velocity="10.0" lower="0.0" upper="1.5708"/>
    <mimic joint="thumb_pulley_joint" multiplier="1.0" offset="1.0472"/>
    <parent link="thumb_link0"/>
    <child link="thumb_link1"/>
    <axis xyz="0. 1. 0."/>
    <origin xyz="0.00072317 0.024326 0.023405" rpy="-2.2188 -1.0341 1.7234"/>
  </joint>
  <joint name="thumb_joint2" type="revolute">
    <limit effort="0.0" velocity="10.0" lower="0.0" upper="1.5708"/>
    <mimic joint="thumb_pulley_joint" multiplier="1.0" offset="1.0472"/>
    <parent link="thumb_link1"/>
    <child link="thumb_link2"/>
    <axis xyz="0. 1. 0."/>
    <origin xyz="0.028 0.0 0.0" rpy="0.0 -0.0 0.0"/>
  </joint>
  <joint name="index_joint0" type="revolute">
    <limit effort="0.0" velocity="6.545" lower="0.0" upper="1.2217"/>
    <parent link="hand_link"/>
    <child link="index_link0"/>
    <axis xyz="0. 0. 1."/>
    <origin xyz="0.0090047 0.029285 0.1006" rpy="-7.346410206709668e-06 -1.5707926535897934 7.346410206709668e-06"/>
  </joint>
  <joint name="index_joint1" type="revolute">
    <limit effort="0.0" velocity="10.0" lower="0.0" upper="1.5708"/>
    <mimic joint="index_pulley_joint" multiplier="-1.0" offset="1.0472"/>
    <parent link="index_link0"/>
    <child link="index_link1"/>
    <axis xyz="0. 1. 0."/>
    <origin xyz="0.011065 -0.0001 -0.0015" rpy="0.0 -0.0 0.0"/>
  </joint>
  <joint name="index_joint2" type="revolute">
    <limit effort="0.0" velocity="10.0" lower="0.0" upper="1.5708"/>
    <mimic joint="index_pulley_joint" multiplier="-1.0" offset="1.0472"/>
    <parent link="index_link1"/>
    <child link="index_link2"/>
    <axis xyz="0. 1. 0."/>
    <origin xyz="0.028 0.0 0.0" rpy="0.0 -0.0 0.0"/>
  </joint>
  <joint name="index_joint3" type="revolute">
    <limit effort="0.0" velocity="10.0" lower="0.0" upper="1.5708"/>
    <mimic joint="index_pulley_joint" multiplier="-1.0" offset="1.0472"/>
    <parent link="index_link2"/>
    <child link="index_link3"/>
    <axis xyz="0. 1. 0."/>
    <origin xyz="0.023 0.0 0.0" rpy="0.0 -0.0 0.0"/>
  </joint>
  <joint name="middle_joint0" type="revolute">
    <limit effort="0.0" velocity="6.545" lower="0.0" upper="1.2217"/>
    <parent link="hand_link"/>
    <child link="middle_link0"/>
    <axis xyz="0. 0. 1."/>
    <origin xyz="0.0090047 0.011185 0.1066" rpy="-7.346410206709668e-06 -1.5707926535897934 7.346410206709668e-06"/>
  </joint>
  <joint name="middle_joint1" type="revolute">
    <limit effort="0.0" velocity="10.0" lower="0.0" upper="1.5708"/>
    <mimic joint="middle_pulley_joint" multiplier="1.0" offset="0.87267"/>
    <parent link="middle_link0"/>
    <child link="middle_link1"/>
    <axis xyz="0. 1. 0."/>
    <origin xyz="0.011065 0.0 -0.0015" rpy="0.0 -0.0 0.0"/>
  </joint>
  <joint name="middle_joint2" type="revolute">
    <limit effort="0.0" velocity="10.0" lower="0.0" upper="1.5708"/>
    <mimic joint="middle_pulley_joint" multiplier="1.0" offset="0.87267"/>
    <parent link="middle_link1"/>
    <child link="middle_link2"/>
    <axis xyz="0. 1. 0."/>
    <origin xyz="0.034 0.0 0.0" rpy="0.0 -0.0 0.0"/>
  </joint>
  <joint name="middle_joint3" type="revolute">
    <limit effort="0.0" velocity="10.0" lower="0.0" upper="1.5708"/>
    <mimic joint="middle_pulley_joint" multiplier="1.0" offset="0.87267"/>
    <parent link="middle_link2"/>
    <child link="middle_link3"/>
    <axis xyz="0. 1. 0."/>
    <origin xyz="0.023 0.0 0.0" rpy="0.0 -0.0 0.0"/>
  </joint>
  <joint name="ring_joint0" type="revolute">
    <limit effort="0.0" velocity="6.545" lower="-1.2217" upper="0.0"/>
    <parent link="hand_link"/>
    <child link="ring_link0"/>
    <axis xyz="0. 0. 1."/>
    <origin xyz="0.0090047 -0.0068148 0.1016" rpy="-7.346410206709668e-06 -1.5707926535897934 7.346410206709668e-06"/>
  </joint>
  <joint name="ring_joint1" type="revolute">
    <limit effort="0.0" velocity="10.0" lower="0.0" upper="1.5708"/>
    <mimic joint="ring_pulley_joint" multiplier="-1.0" offset="1.0472"/>
    <parent link="ring_link0"/>
    <child link="ring_link1"/>
    <axis xyz="0. 1. 0."/>
    <origin xyz="0.011065 0.0001 -0.0015" rpy="0.0 -0.0 0.0"/>
  </joint>
  <joint name="ring_joint2" type="revolute">
    <limit effort="0.0" velocity="10.0" lower="0.0" upper="1.5708"/>
    <mimic joint="ring_pulley_joint" multiplier="-1.0" offset="1.0472"/>
    <parent link="ring_link1"/>
    <child link="ring_link2"/>
    <axis xyz="0. 1. 0."/>
    <origin xyz="0.034 0.0 0.0" rpy="0.0 -0.0 0.0"/>
  </joint>
  <joint name="ring_joint3" type="revolute">
    <limit effort="0.0" velocity="10.0" lower="0.0" upper="1.5708"/>
    <mimic joint="ring_pulley_joint" multiplier="-1.0" offset="1.0472"/>
    <parent link="ring_link2"/>
    <child link="ring_link3"/>
    <axis xyz="0. 1. 0."/>
    <origin xyz="0.023 0.0 0.0" rpy="0.0 -0.0 0.0"/>
  </joint>
  <joint name="little_joint0" type="revolute">
    <limit effort="0.0" velocity="6.545" lower="-1.2217" upper="0.0"/>
    <parent link="hand_link"/>
    <child link="little_link0"/>
    <axis xyz="0. 0. 1."/>
    <origin xyz="0.0090047 -0.024815 0.0966" rpy="-7.346410206709668e-06 -1.5707926535897934 7.346410206709668e-06"/>
  </joint>
  <joint name="little_joint1" type="revolute">
    <limit effort="0.0" velocity="10.0" lower="0.0" upper="1.5708"/>
    <mimic joint="little_pulley_joint" multiplier="1.0" offset="1.0472"/>
    <parent link="little_link0"/>
    <child link="little_link1"/>
    <axis xyz="0. 1. 0."/>
    <origin xyz="0.011065 0.0001 -0.0015" rpy="0.0 -0.0 0.0"/>
  </joint>
  <joint name="little_joint2" type="revolute">
    <limit effort="0.0" velocity="10.0" lower="0.0" upper="1.5708"/>
    <mimic joint="little_pulley_joint" multiplier="1.0" offset="1.0472"/>
    <parent link="little_link1"/>
    <child link="little_link2"/>
    <axis xyz="0. 1. 0."/>
    <origin xyz="0.023 0.0 0.0" rpy="0.0 -0.0 0.0"/>
  </joint>
  <joint name="little_joint3" type="revolute">
    <limit effort="0.0" velocity="10.0" lower="0.0" upper="1.5708"/>
    <mimic joint="little_pulley_joint" multiplier="1.0" offset="1.0472"/>
    <parent link="little_link2"/>
    <child link="little_link3"/>
    <axis xyz="0. 1. 0."/>
    <origin xyz="0.023 0.0 0.0" rpy="0.0 -0.0 0.0"/>
  </joint>
  <material name="">
    <color rgba="0. 0. 0. 1."/>
  </material>
</robot>
